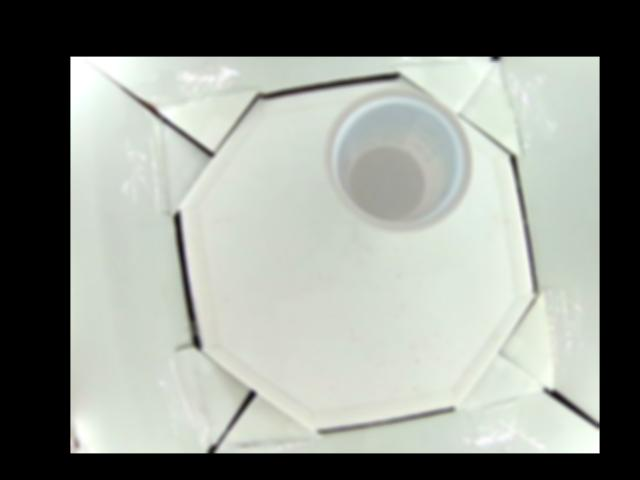Cup: (329, 89, 472, 233)
